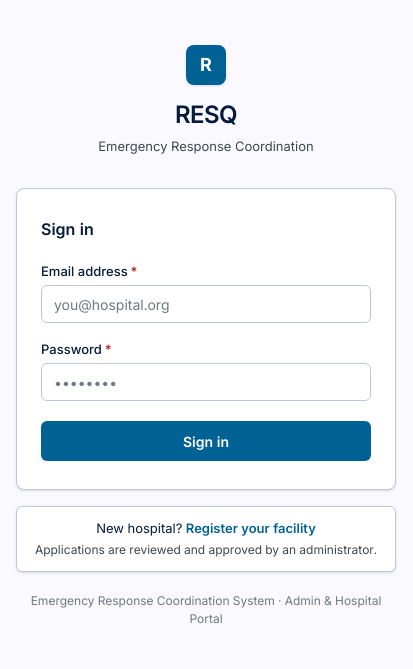
Test: LoginPage › shows error on invalid credentials
In the field labelled "Email address*": (206, 304) [41, 285, 371, 323], type "wrong@test.com"
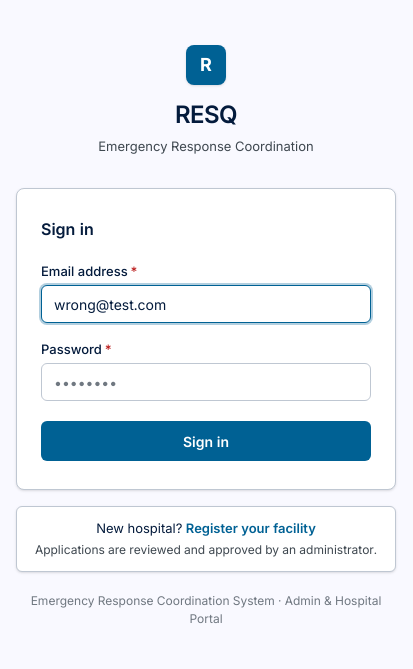
In the password field labelled "Password*": (206, 382) [41, 363, 371, 401], type "wrongpass"
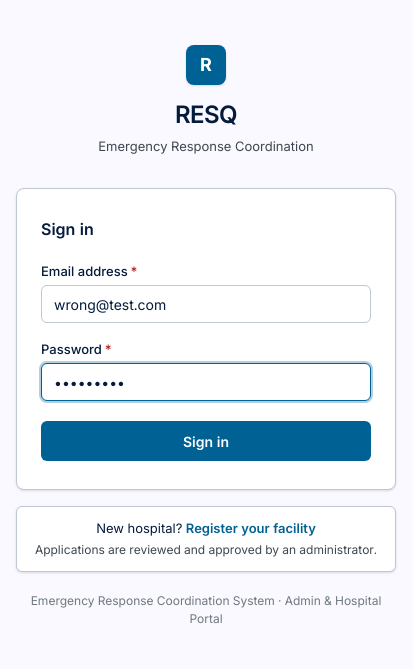
Click the button "Sign in": (206, 441) [41, 421, 371, 461]
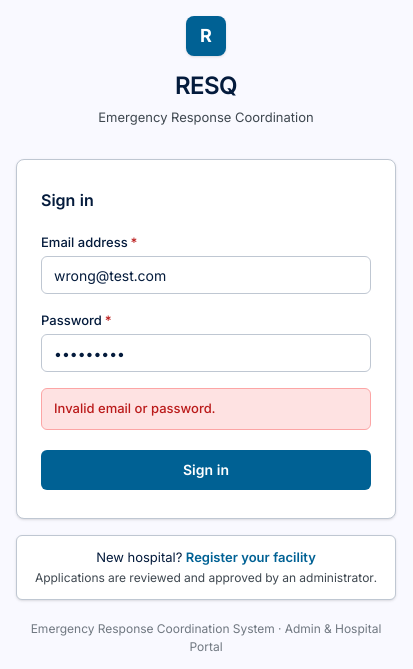
Expected: the message "Invalid email or password." is shown, [41, 388, 371, 430]
